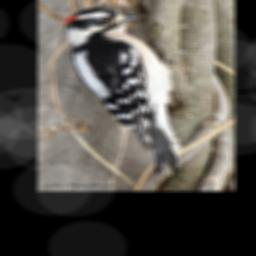Woodpecker: (64, 7, 184, 174)
